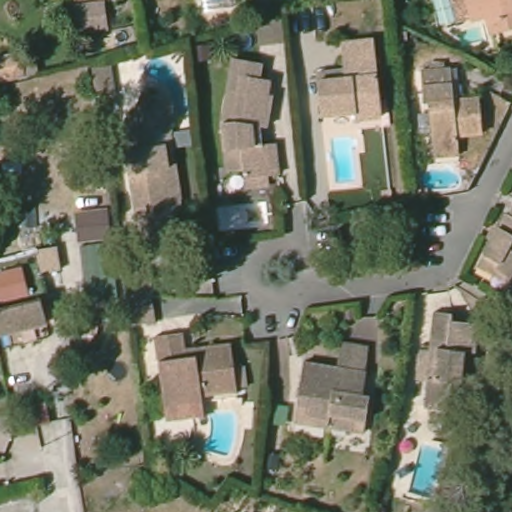pool: (122, 52, 191, 139), (328, 127, 367, 191), (407, 441, 452, 493), (204, 404, 246, 458), (420, 160, 472, 196), (449, 22, 496, 47)
